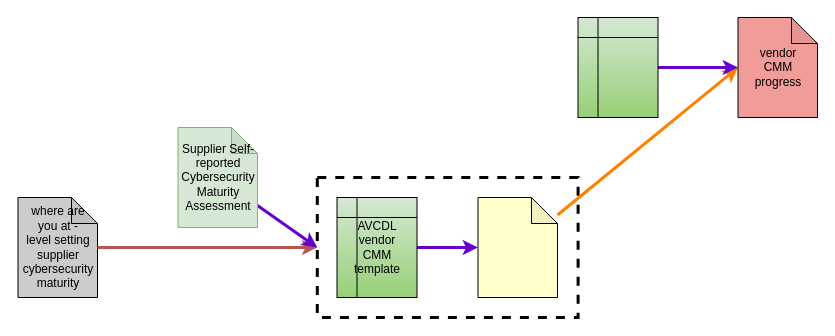
This 835x336 diagram has some shape labels left out. Here are the shapes that lost their labels. From the top down, the centre of each, then its label:
At point 617,67: "AVCDL vendor CMM progress template".
At point 517,247: "supplier self-reported cybersecurity process maturity (CMM)".
